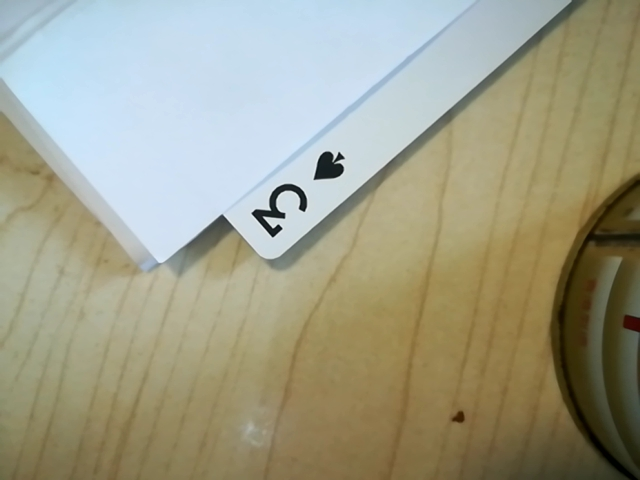ht 3: (237, 142, 358, 251)
